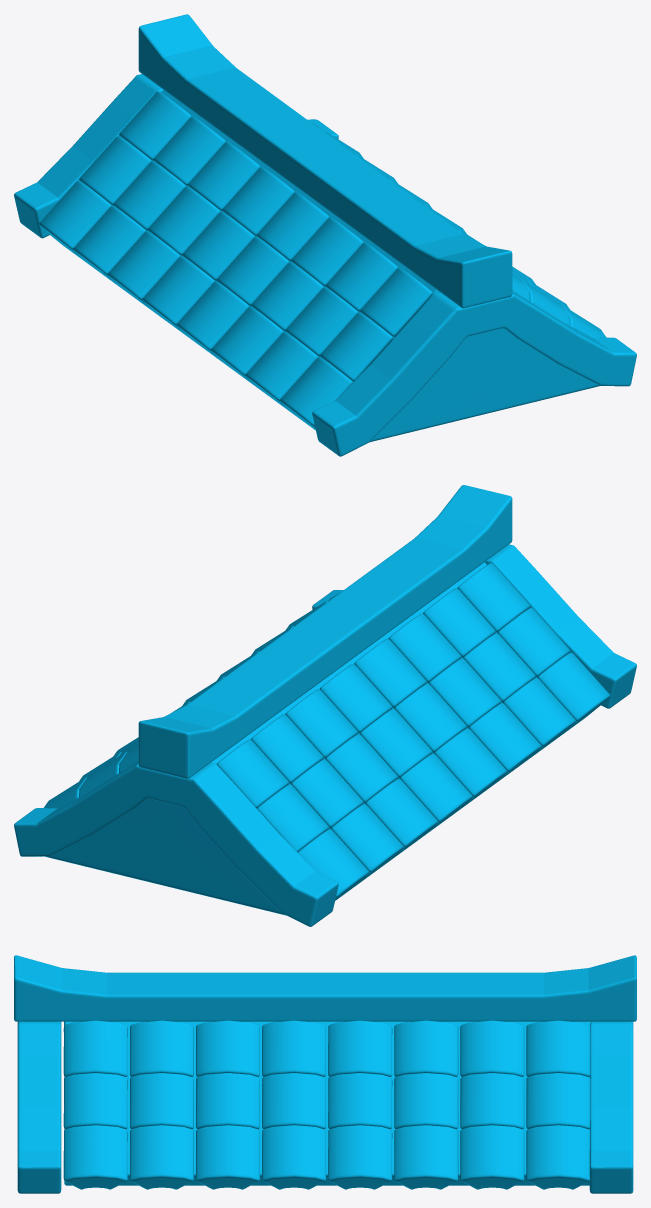
Rendered from SM_Stone_Roof_03.fbx.
3 views of the same model, one above another, from view 1: azimuth 30°, elevation 25°; view 2: azimuth 150°, elevation 25°; view 3: azimuth 270°, elevation 25° (orthographic). The views are drawn at different scales.
Parts seen in each view (by area): view 1: SM_Stone_Roof_03; view 2: SM_Stone_Roof_03; view 3: SM_Stone_Roof_03.
Boxes of the visible parts, x1=… form: SM_Stone_Roof_03: x1=14, y1=14, x2=636, y2=456; SM_Stone_Roof_03: x1=14, y1=485, x2=636, y2=926; SM_Stone_Roof_03: x1=14, y1=955, x2=636, y2=1193.
Bounding box in the file's own units: 2.79 × 1.52 × 5.03.
